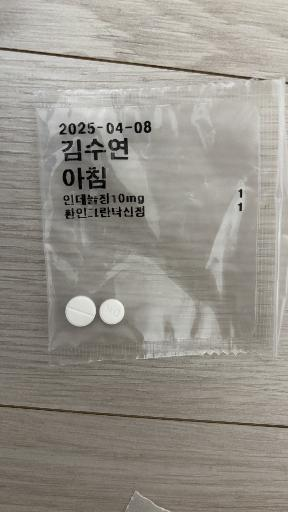Grandaxin: (65, 296, 96, 327)
Indenol: (99, 299, 125, 324)
vinyl: (35, 79, 288, 364)
